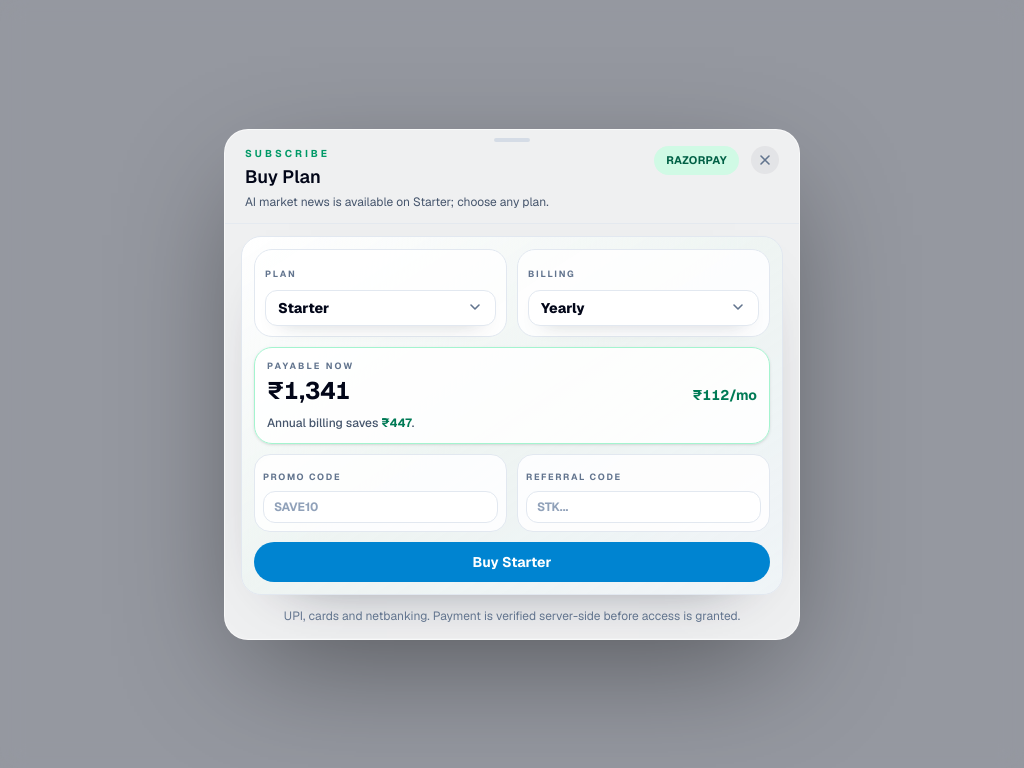
Test: SubscribeModal › uses the required Starter plan when a Starter feature is locked
The image size is (1024, 768).
Check: the text "Starter" is shown, box [278, 297, 329, 317]
Click the dropdown named "Subscription plan": (380, 307) [265, 289, 496, 325]
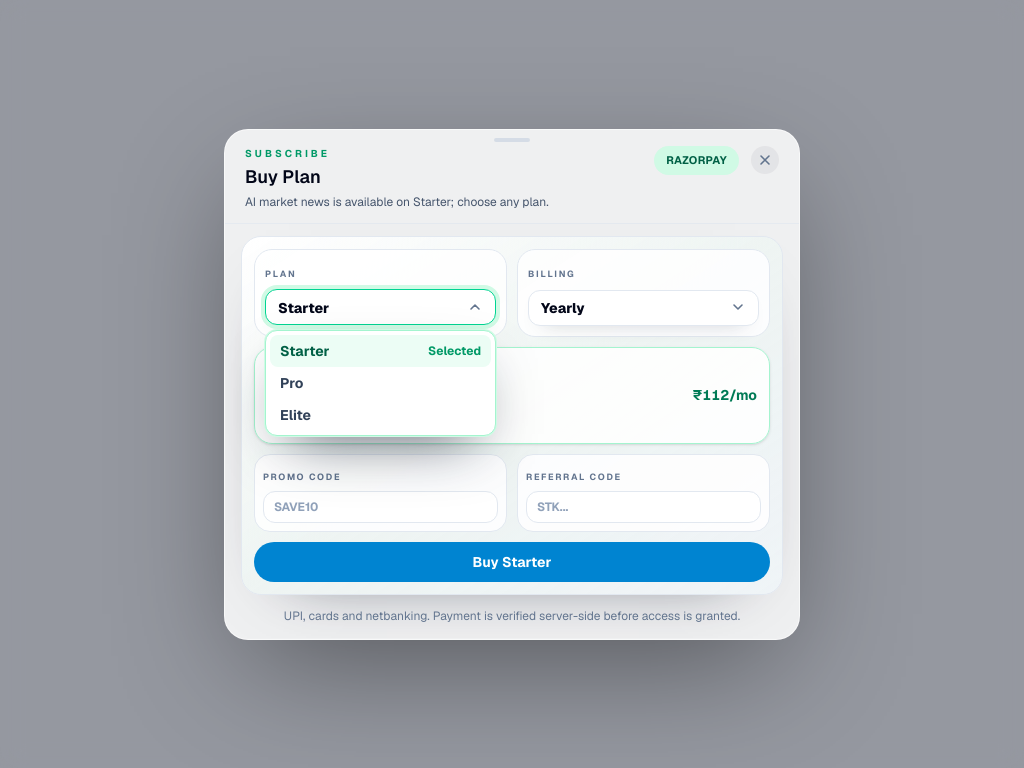
Check: the button "Buy Starter" is shown, box [254, 542, 770, 582]
Check: the option "Pro" is shown, box [270, 367, 491, 399]
Check: the option "Elite" is shown, box [270, 399, 491, 431]
